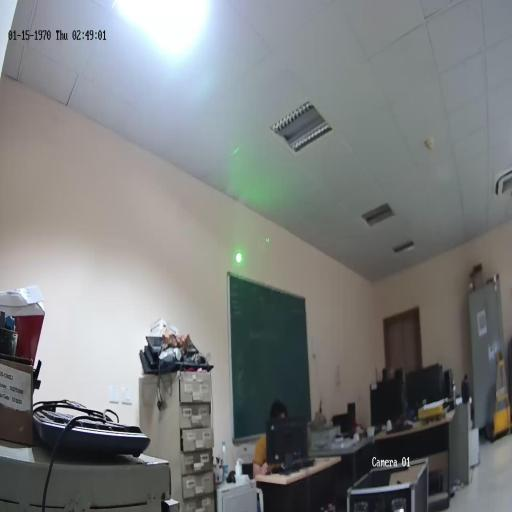laser: (234, 249, 244, 267)
